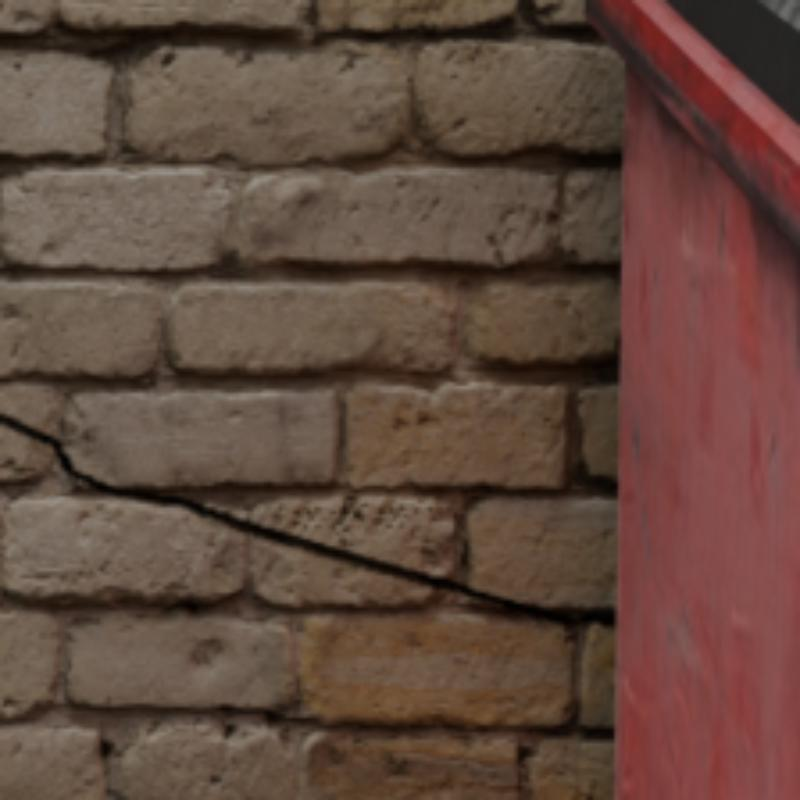crack: (0, 414, 614, 625)
